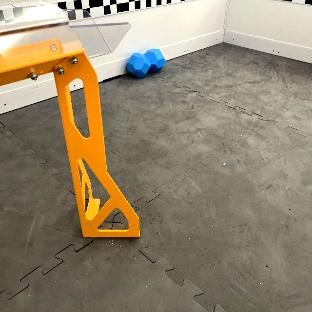Goal: (0, 2, 140, 237)
V5_BLUE: (127, 49, 164, 77)
